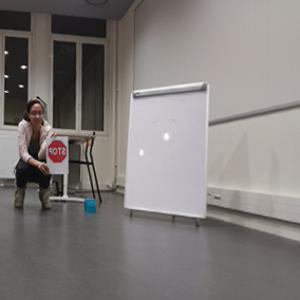stop: (47, 139, 67, 163)
